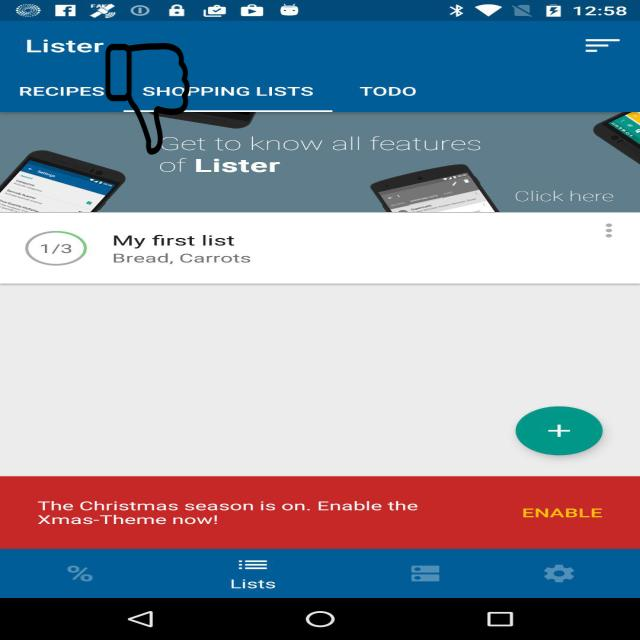obstruction: (104, 43, 191, 155)
